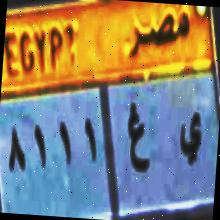1: (54, 114, 77, 175), (28, 119, 52, 172), (79, 115, 100, 168)
8: (3, 120, 30, 186)
ghayn: (121, 96, 156, 184)
yaa: (172, 102, 212, 180)
